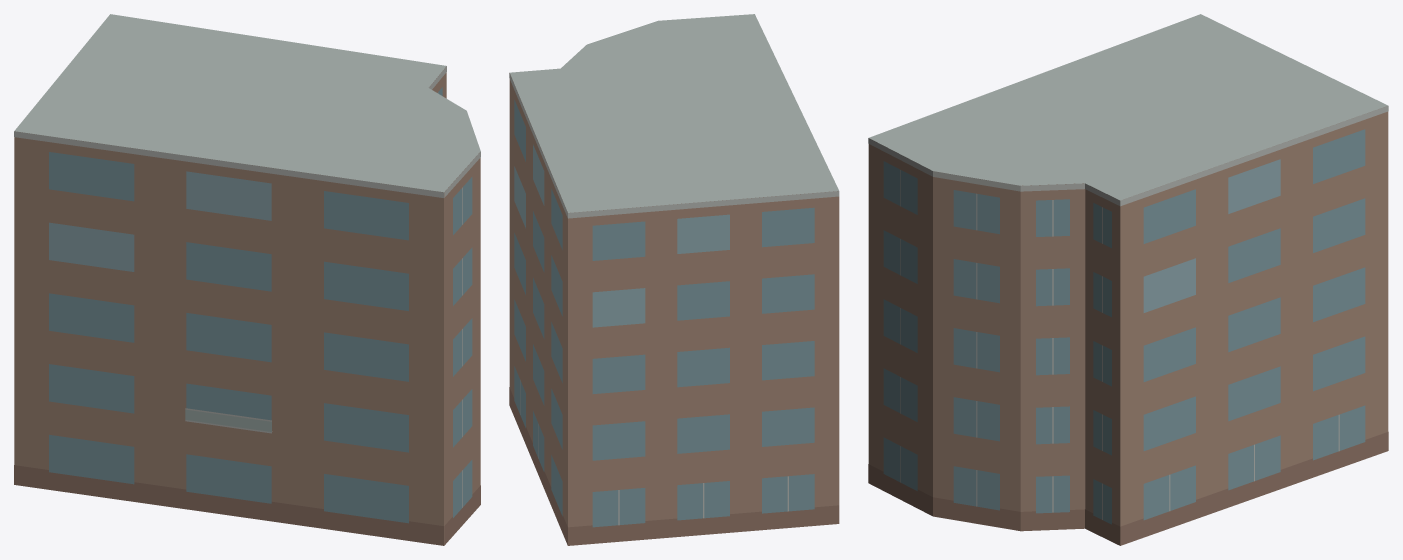
Rendered from survey-upis-32820349.glb.
3 renders of one model, left to right at view 1: azimuth 30°, elevation 25°; view 2: azimuth 150°, elevation 25°; view 3: azimuth 270°, elevation 25°, orthographic. The views are drawn at different scales.
Parts seen in each view (by area): view 1: survey-upis-32820349.tmp; view 2: survey-upis-32820349.tmp; view 3: survey-upis-32820349.tmp.
Part boxes in pixels (box(x1,y1,x2,y2)): survey-upis-32820349.tmp: box(14, 14, 480, 545); survey-upis-32820349.tmp: box(509, 14, 839, 545); survey-upis-32820349.tmp: box(868, 14, 1388, 545).
Size of the model in its own units: 16.92 by 14.6 by 19.93.
